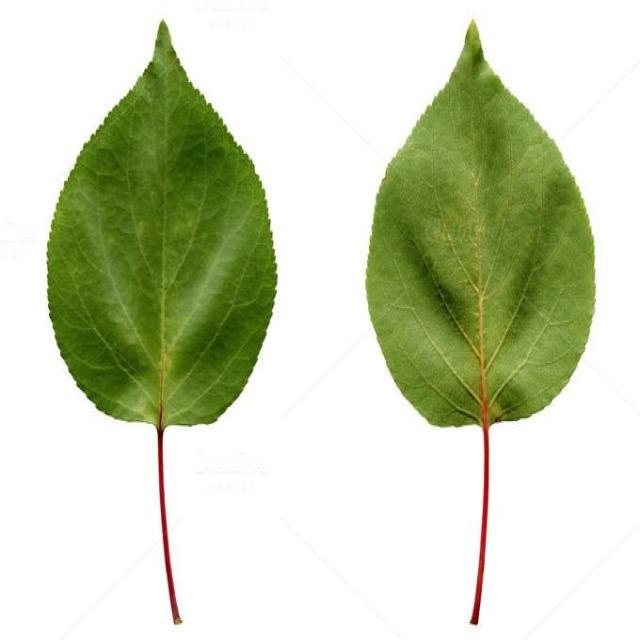kayisiyapragi: (46, 21, 278, 437), (363, 21, 597, 429)
